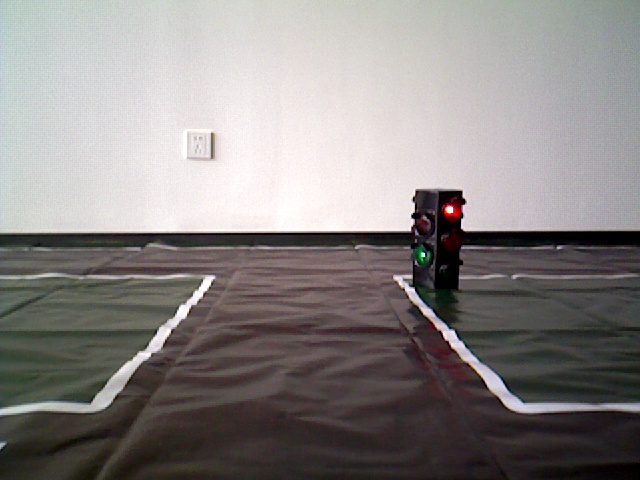red: (414, 189, 457, 289)
